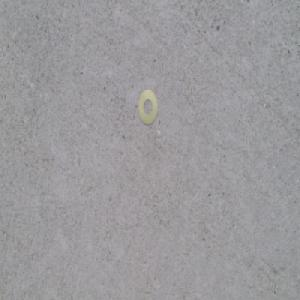Washer: (138, 89, 158, 125)
